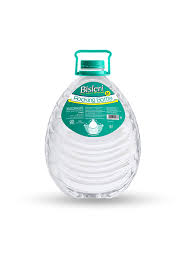Bisleri: (73, 83, 123, 132)
plastic: (51, 49, 132, 197)
